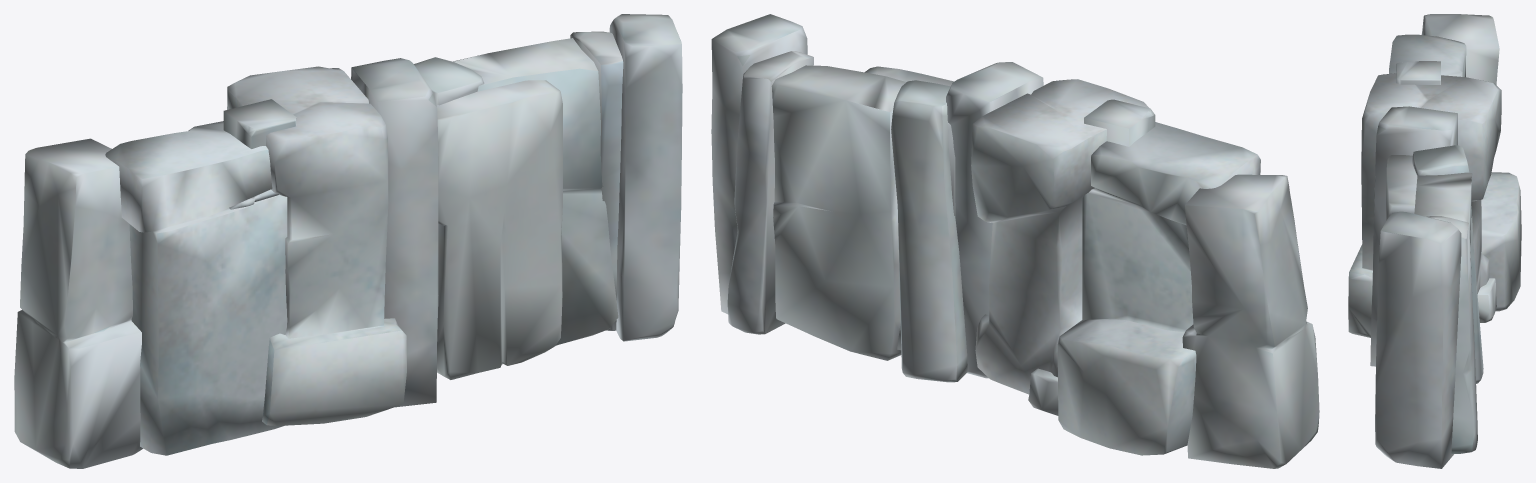
The model's file is P_CubicCliff10.obj.
3 renders of one model, left to right at view 1: azimuth 30°, elevation 25°; view 2: azimuth 150°, elevation 25°; view 3: azimuth 270°, elevation 25°, orthographic. The views are drawn at different scales.
Size of the model in its own units: 49.02 by 23.13 by 14.66.
